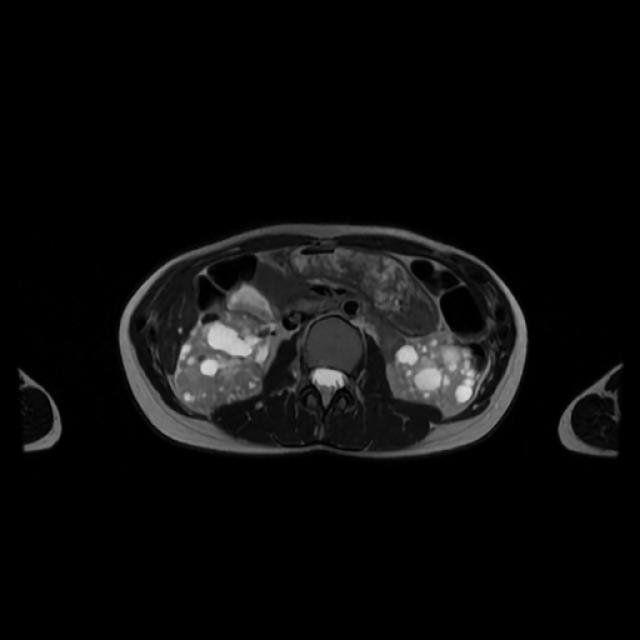sag: (174, 310, 274, 412)
sol: (396, 339, 479, 409)
